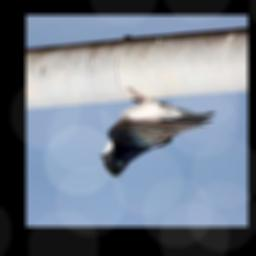Swallow: (100, 87, 217, 177)
